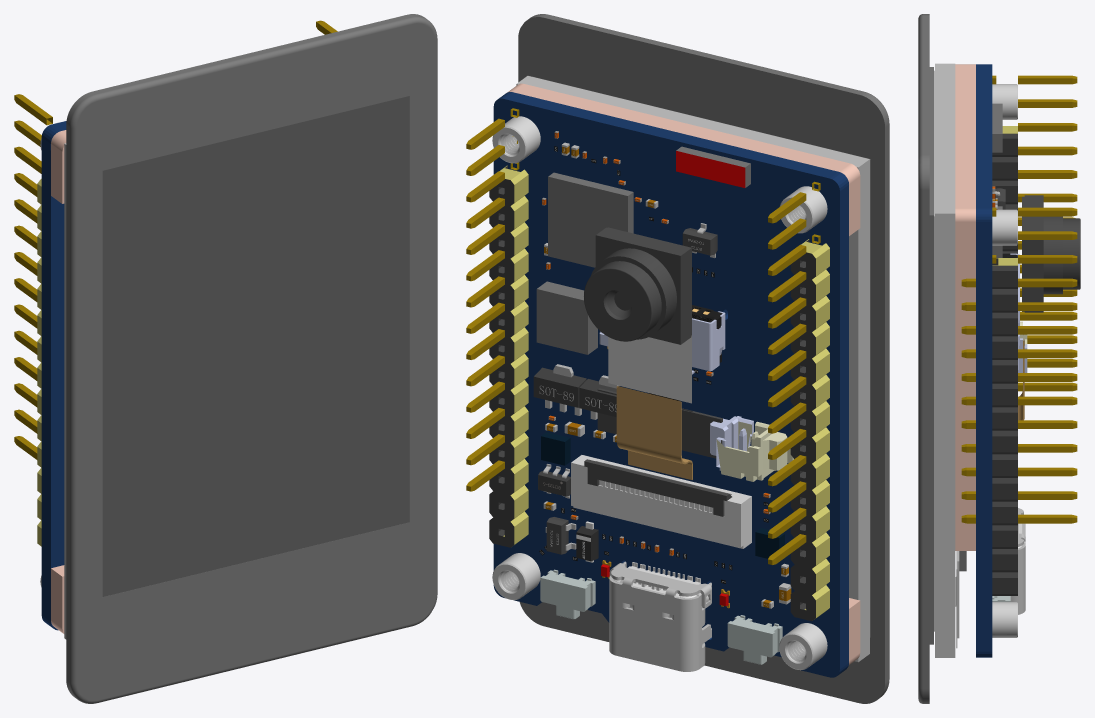
The model's file is board.glb.
3 renders of one model, left to right at view 1: azimuth 30°, elevation 25°; view 2: azimuth 150°, elevation 25°; view 3: azimuth 270°, elevation 25°, orthographic. The views are drawn at different scales.
Parts seen in each view (by area): view 1: object 1, PIN_HEADER-2_54MM_1X14PIN_1_7399c0, object 234, PIN_HEADER-2_54MM_1X14PIN_1_411e23; view 2: object 1, object 234, PIN_HEADER-2_54MM_1X14PIN_ceac1b, PIN_HEADER-2_54MM_1X14PIN_1_821b62, PIN_HEADER-2_54MM_1X14PIN_1_7399c0, PIN_HEADER-2_54MM_1X14PIN_800e57, PIN_HEADER-2_54MM_1X14PIN_359259, PIN_HEADER-2_54MM_1X14PIN_1_411e23, object 217, SWITCH-TS24CA, SWITCH-TS24CA_1, SMTSO-M2-2_5ET_1_3d3421 (+10 smaller); view 3: object 1, object 234, PIN_HEADER-2_54MM_1X14PIN_800e57, PIN_HEADER-2_54MM_1X14PIN_ceac1b, PIN_HEADER-2_54MM_1X14PIN_1_7399c0, PIN_HEADER-2_54MM_1X14PIN_1_821b62, SMTSO-M2-2_5ET_a68db9, SMTSO-M2-2_5ET_3_2f37fb, SMTSO-M2-2_5ET_2_3e6c84, object 217.
Part boxes in pixels (left/top/right/bottom): object 1: left=41, top=14, right=437, bottom=703; PIN_HEADER-2_54MM_1X14PIN_1_7399c0: left=14, top=94, right=52, bottom=459; object 234: left=51, top=130, right=66, bottom=633; PIN_HEADER-2_54MM_1X14PIN_1_411e23: left=37, top=178, right=41, bottom=546; object 1: left=493, top=14, right=889, bottom=703; object 234: left=507, top=83, right=860, bottom=664; PIN_HEADER-2_54MM_1X14PIN_ceac1b: left=489, top=166, right=514, bottom=547; PIN_HEADER-2_54MM_1X14PIN_1_821b62: left=790, top=239, right=815, bottom=621; PIN_HEADER-2_54MM_1X14PIN_1_7399c0: left=768, top=181, right=820, bottom=564; PIN_HEADER-2_54MM_1X14PIN_800e57: left=466, top=108, right=519, bottom=491; PIN_HEADER-2_54MM_1X14PIN_359259: left=499, top=165, right=528, bottom=544; PIN_HEADER-2_54MM_1X14PIN_1_411e23: left=801, top=239, right=829, bottom=619; object 217: left=576, top=305, right=753, bottom=561; SWITCH-TS24CA: left=540, top=569, right=595, bottom=619; SWITCH-TS24CA_1: left=727, top=615, right=782, bottom=664; SMTSO-M2-2_5ET_1_3d3421: left=779, top=623, right=827, bottom=670; object 1: left=918, top=14, right=1025, bottom=703; object 234: left=955, top=64, right=1080, bottom=550; PIN_HEADER-2_54MM_1X14PIN_800e57: left=961, top=207, right=1077, bottom=523; PIN_HEADER-2_54MM_1X14PIN_ceac1b: left=992, top=258, right=1017, bottom=595; PIN_HEADER-2_54MM_1X14PIN_1_7399c0: left=992, top=75, right=1077, bottom=391; PIN_HEADER-2_54MM_1X14PIN_1_821b62: left=992, top=133, right=1017, bottom=253; SMTSO-M2-2_5ET_a68db9: left=992, top=602, right=1017, bottom=637; SMTSO-M2-2_5ET_3_2f37fb: left=992, top=209, right=1017, bottom=245; SMTSO-M2-2_5ET_2_3e6c84: left=992, top=84, right=1017, bottom=119; object 217: left=1002, top=253, right=1027, bottom=372.
Bounding box in the file's own units: 0.0371 × 0.0588 × 0.0158.
